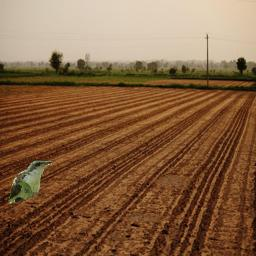Cuckoo: (8, 160, 52, 204)
